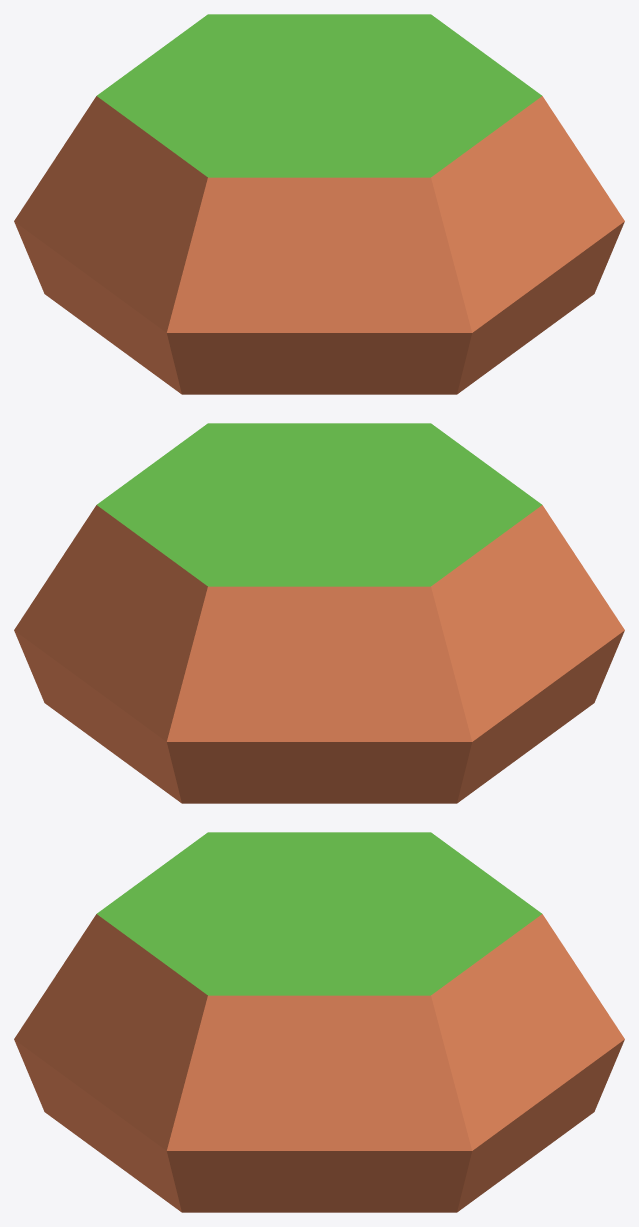
File: rock_smallG.glb
3 renders of one model, top to bottom at view 1: azimuth 30°, elevation 25°; view 2: azimuth 150°, elevation 25°; view 3: azimuth 270°, elevation 25°, orthographic.
Parts seen in each view (by area): view 1: rock_smallG; view 2: rock_smallG; view 3: rock_smallG.
Part boxes in pixels (x1,y1,x2,y2): rock_smallG: [14, 14, 624, 394]; rock_smallG: [14, 423, 624, 803]; rock_smallG: [14, 832, 624, 1212].
Size of the model in its own units: 0.5937 by 0.2453 by 0.6855.
